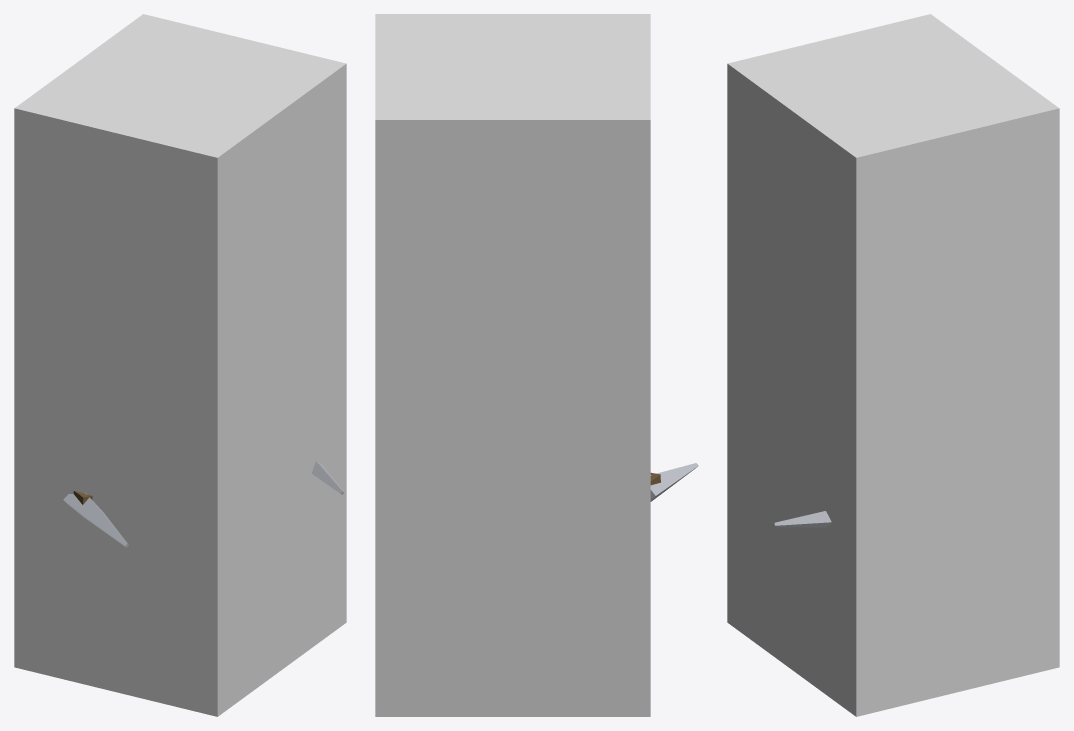
File: desert_cliff_bandit.fbx
The picture shows the model from 3 angles, left to right: view 1: azimuth 30°, elevation 25°; view 2: azimuth 150°, elevation 25°; view 3: azimuth 270°, elevation 25°; orthographic projection. The views are drawn at different scales.
Parts seen in each view (by area): view 1: Root__0.00_2.75_-0.10__2.30_5.50_2.09, ArmR__Torso__0.86_3.73_0.00; view 2: Root__0.00_2.75_-0.10__2.30_5.50_2.09, ArmR__Torso__0.86_3.73_0.00; view 3: Root__0.00_2.75_-0.10__2.30_5.50_2.09, ArmL__Torso__-0.86_3.73_0.00.
Part boxes in pixels (x1,y1,x2,y2): Root__0.00_2.75_-0.10__2.30_5.50_2.09: (14,14,346,716); ArmR__Torso__0.86_3.73_0.00: (63,491,128,547); Root__0.00_2.75_-0.10__2.30_5.50_2.09: (375,14,650,716); ArmR__Torso__0.86_3.73_0.00: (650,463,698,501); Root__0.00_2.75_-0.10__2.30_5.50_2.09: (727,14,1059,716); ArmL__Torso__-0.86_3.73_0.00: (774,511,831,527).
Bounding box in the file's own units: 85.02 × 155 × 82.9.
1 material, 1 textured.
